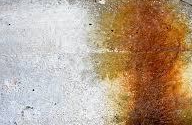Corrosion: (89, 1, 192, 125)
